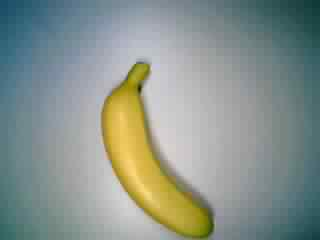banana: (97, 62, 218, 238)
